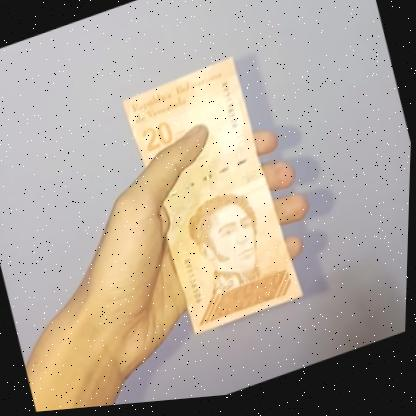twenty-front-vef: (115, 52, 309, 350)
